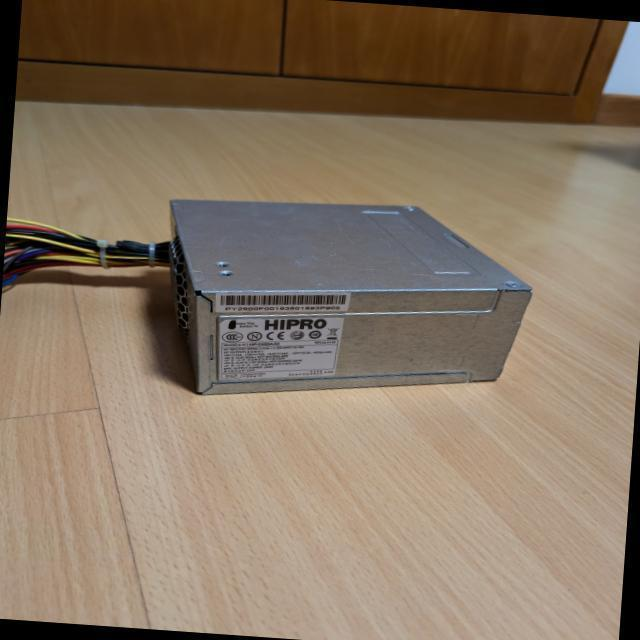PSU: (157, 188, 539, 418)
